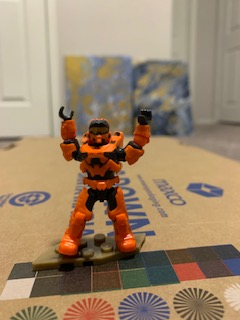spartan: (54, 106, 152, 259)
up: (54, 104, 152, 176)
